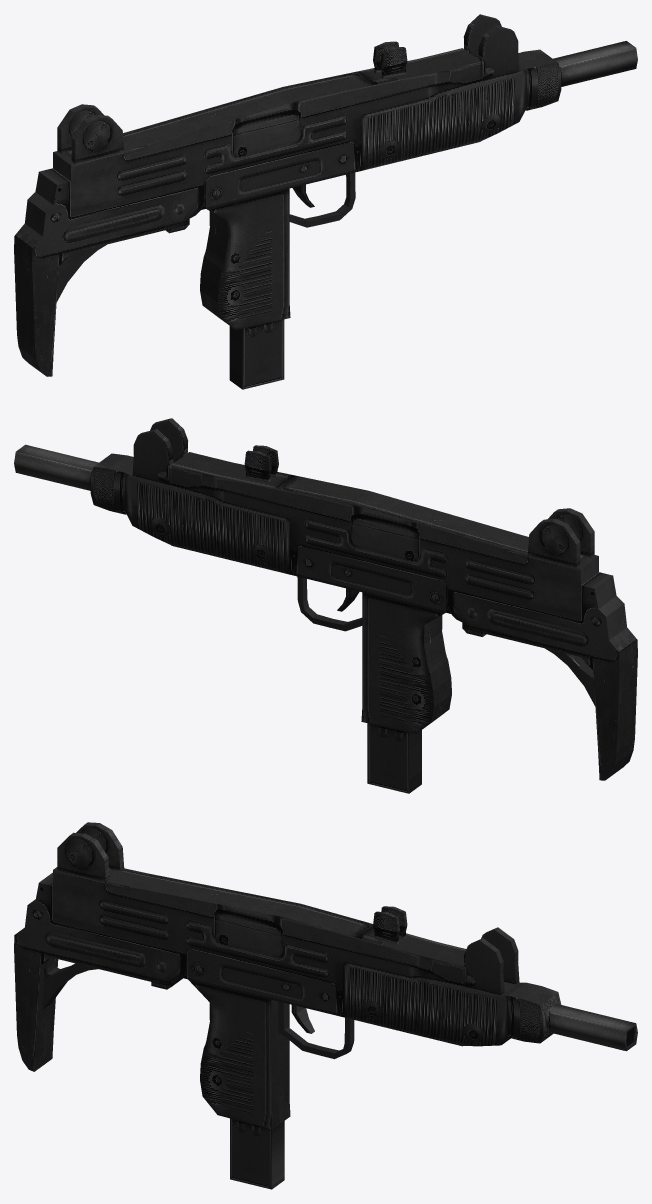
File: UZI.glb
3 views of the same model, one above another, from view 1: azimuth 30°, elevation 25°; view 2: azimuth 150°, elevation 25°; view 3: azimuth 330°, elevation 25° (orthographic).
Parts seen in each view (by area): view 1: UZI; view 2: UZI; view 3: UZI.
Boxes of the visible parts, box(x1,y1,x2,y2) form: UZI: box(14, 14, 637, 389); UZI: box(14, 418, 637, 793); UZI: box(14, 822, 637, 1189).
Bounding box in the file's own units: 0.4643 × 0.2259 × 0.024.
Materials: 1 (1 with a texture image).
